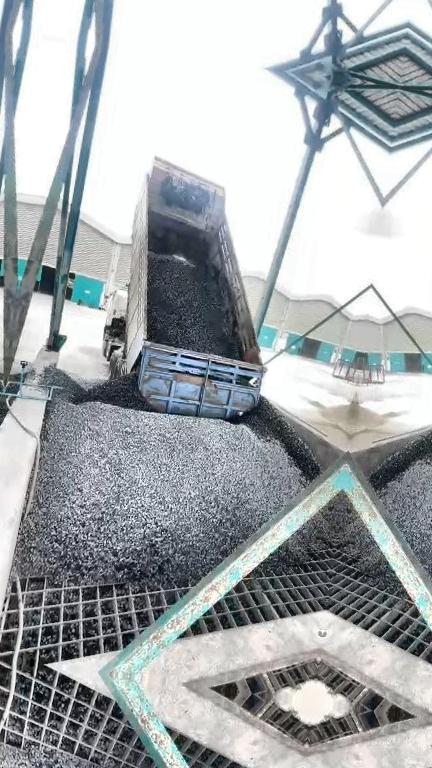gravel: (13, 362, 322, 588), (148, 217, 240, 360), (263, 494, 342, 572)
sand: (293, 398, 354, 450)
